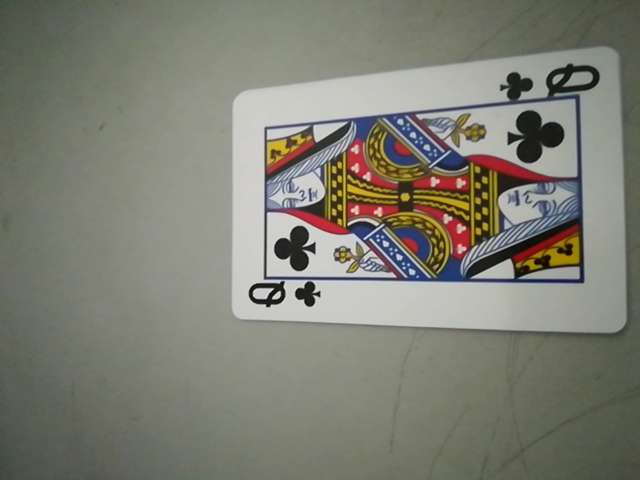mh q: (500, 59, 599, 104), (242, 274, 324, 319)
